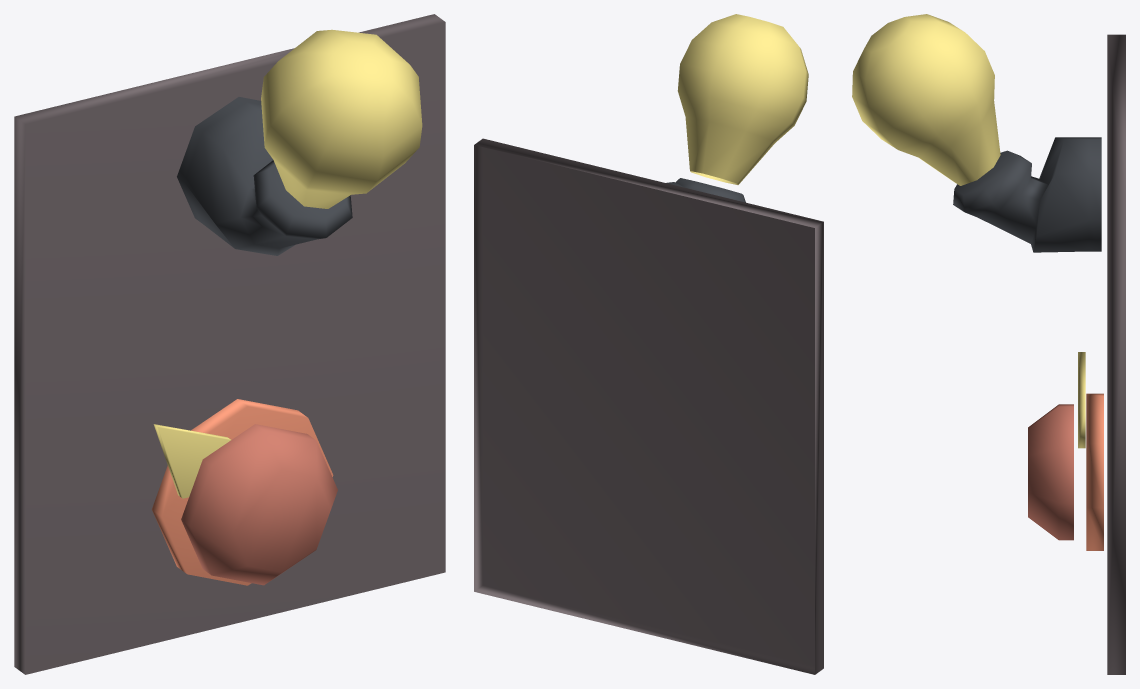
The model's file is LightSwice.fbx.
3 renders of one model, left to right at view 1: azimuth 30°, elevation 25°; view 2: azimuth 150°, elevation 25°; view 3: azimuth 270°, elevation 25°, orthographic. The views are drawn at different scales.
Visible parts, largest first — view 1: LightSetting:pCube1, LightSetting:pSphere1, LightSetting:pCylinder2, LightSetting:pCylinder3, LightSetting:pCylinder1, LightSetting:pCube2; view 2: LightSetting:pCube1, LightSetting:pSphere1, LightSetting:pCylinder3; view 3: LightSetting:pSphere1, LightSetting:pCube1, LightSetting:pCylinder3, LightSetting:pCylinder2, LightSetting:pCylinder1, LightSetting:pCube2.
Part boxes in pixels (bbox=[...]): LightSetting:pCube1: bbox=[14, 14, 445, 674]; LightSetting:pSphere1: bbox=[261, 29, 422, 208]; LightSetting:pCylinder2: bbox=[181, 424, 337, 585]; LightSetting:pCylinder3: bbox=[177, 97, 352, 255]; LightSetting:pCylinder1: bbox=[152, 399, 333, 585]; LightSetting:pCube2: bbox=[153, 424, 230, 498]; LightSetting:pCube1: bbox=[474, 138, 823, 674]; LightSetting:pSphere1: bbox=[677, 14, 808, 184]; LightSetting:pCylinder3: bbox=[666, 178, 745, 202]; LightSetting:pSphere1: bbox=[852, 14, 1000, 185]; LightSetting:pCube1: bbox=[1107, 34, 1125, 674]; LightSetting:pCylinder3: bbox=[953, 137, 1101, 252]; LightSetting:pCylinder2: bbox=[1028, 404, 1073, 540]; LightSetting:pCylinder1: bbox=[1086, 393, 1103, 550]; LightSetting:pCube2: bbox=[1078, 352, 1085, 448].
Bounding box in the file's own units: 10.08 × 15.31 × 6.71.
